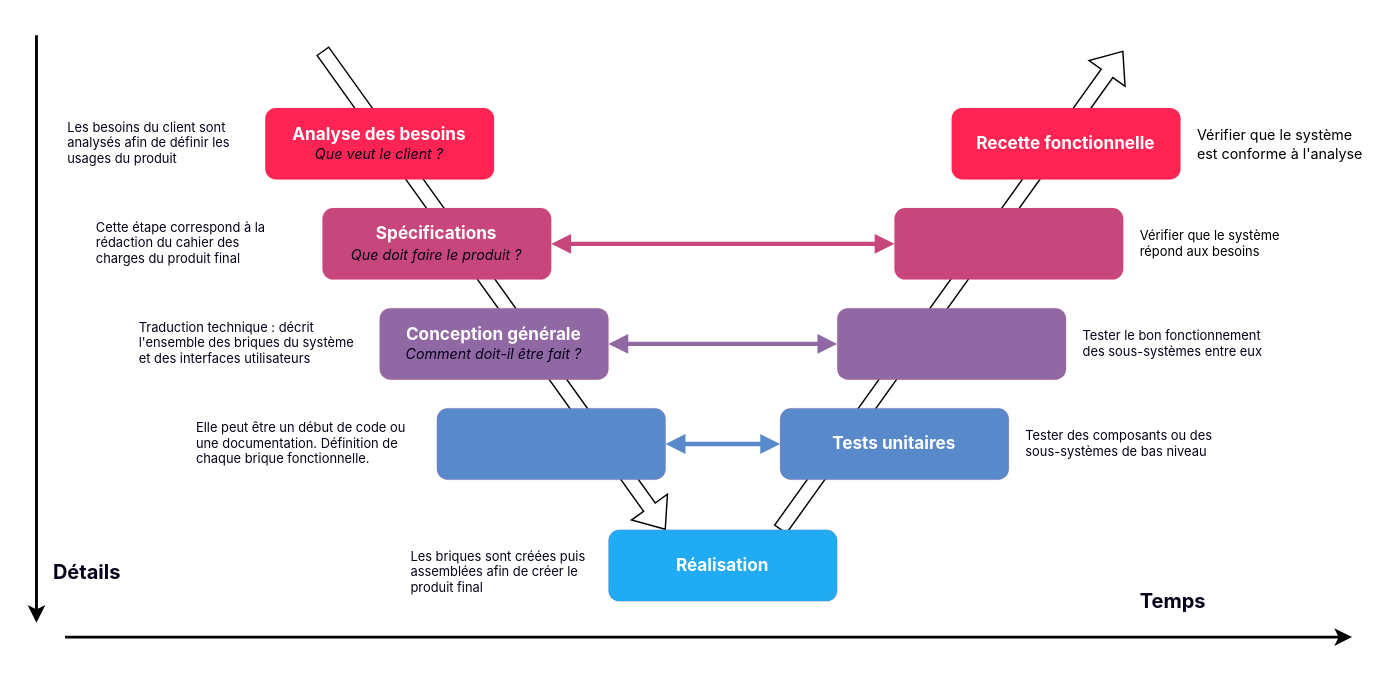
Some shapes in this 1390 by 675 pixel diagram are drawn without their labels. The centre of each missing label's shape, as x and y in pixels:
"Conception détaillée" goes at (x=550, y=443).
"Tests d'intégration" goes at (x=951, y=343).
"Tests de validation" goes at (x=1008, y=243).
